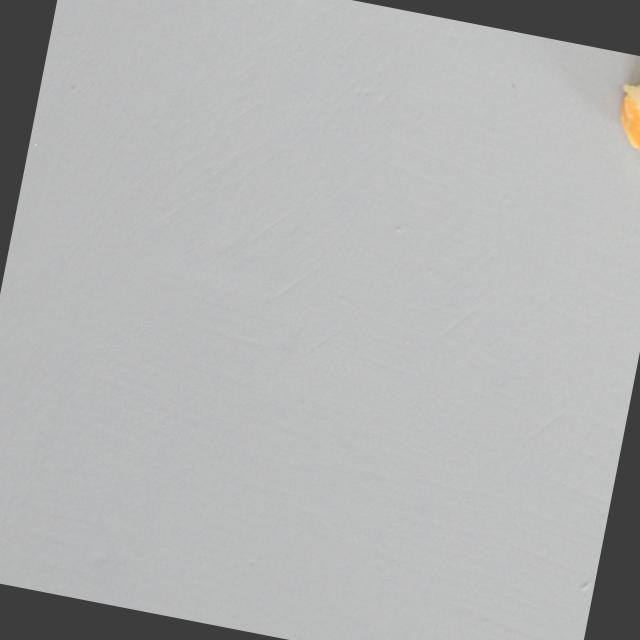pelicula: (604, 67, 640, 168)
